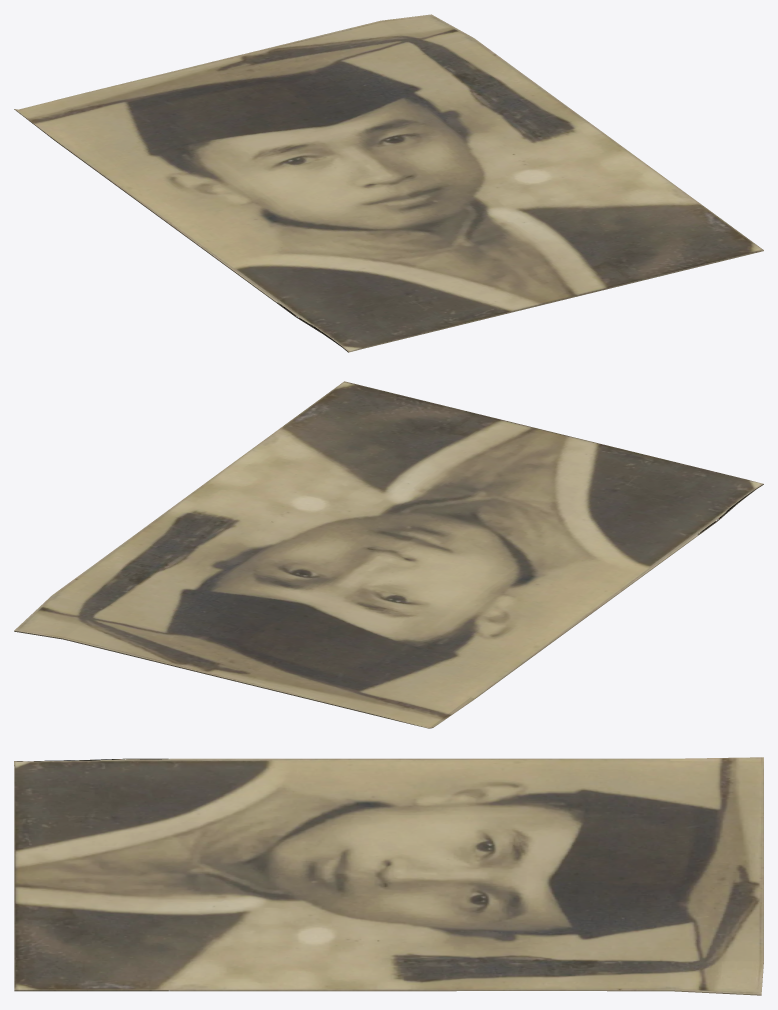
Rendered from 证件照.obj.
3 renders of one model, top to bottom at view 1: azimuth 30°, elevation 25°; view 2: azimuth 150°, elevation 25°; view 3: azimuth 270°, elevation 25°, orthographic. The views are drawn at different scales.
Parts seen in each view (by area): view 1: 平面.012; view 2: 平面.012; view 3: 平面.012.
Boxes of the visible parts, <box> form: 平面.012: <box>14,14,763,352</box>; 平面.012: <box>14,381,763,728</box>; 平面.012: <box>14,757,763,995</box>.
Size of the model in its own units: 4.07 by 0.0679 by 5.57.
